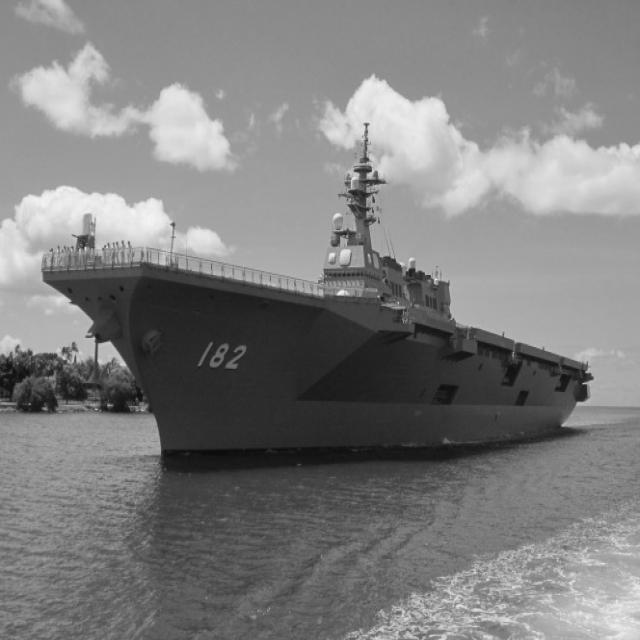Portanaves: (42, 112, 600, 472)
